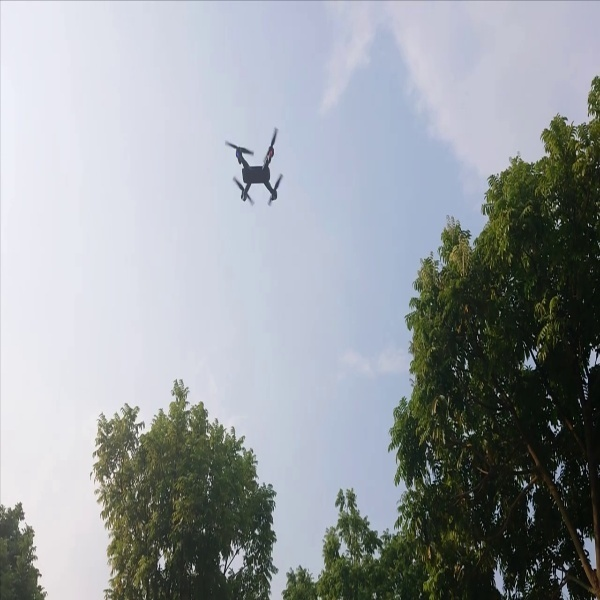drone: (219, 120, 292, 212)
